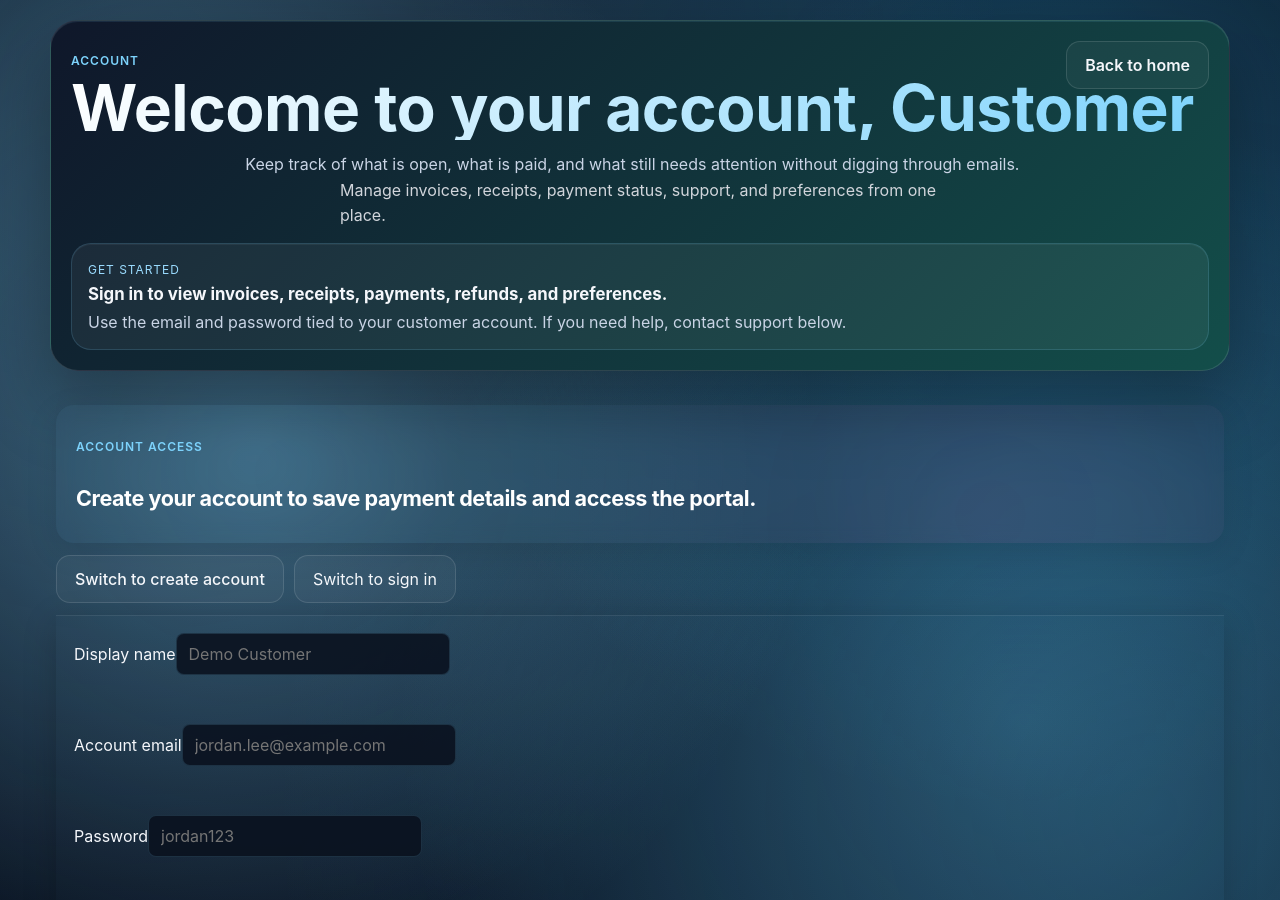
Test: Feature flows › opens the create-account flow from the public homepage and registers a new user
This screenshot has width=1280, height=900.
Expected: the heading "Create your account to save payment details and access the portal" is shown, x1=76 y1=485 x2=756 y2=511
In the field labelled "Display name": (313, 654) x1=176 y1=633 x2=450 y2=675, type "New Customer"
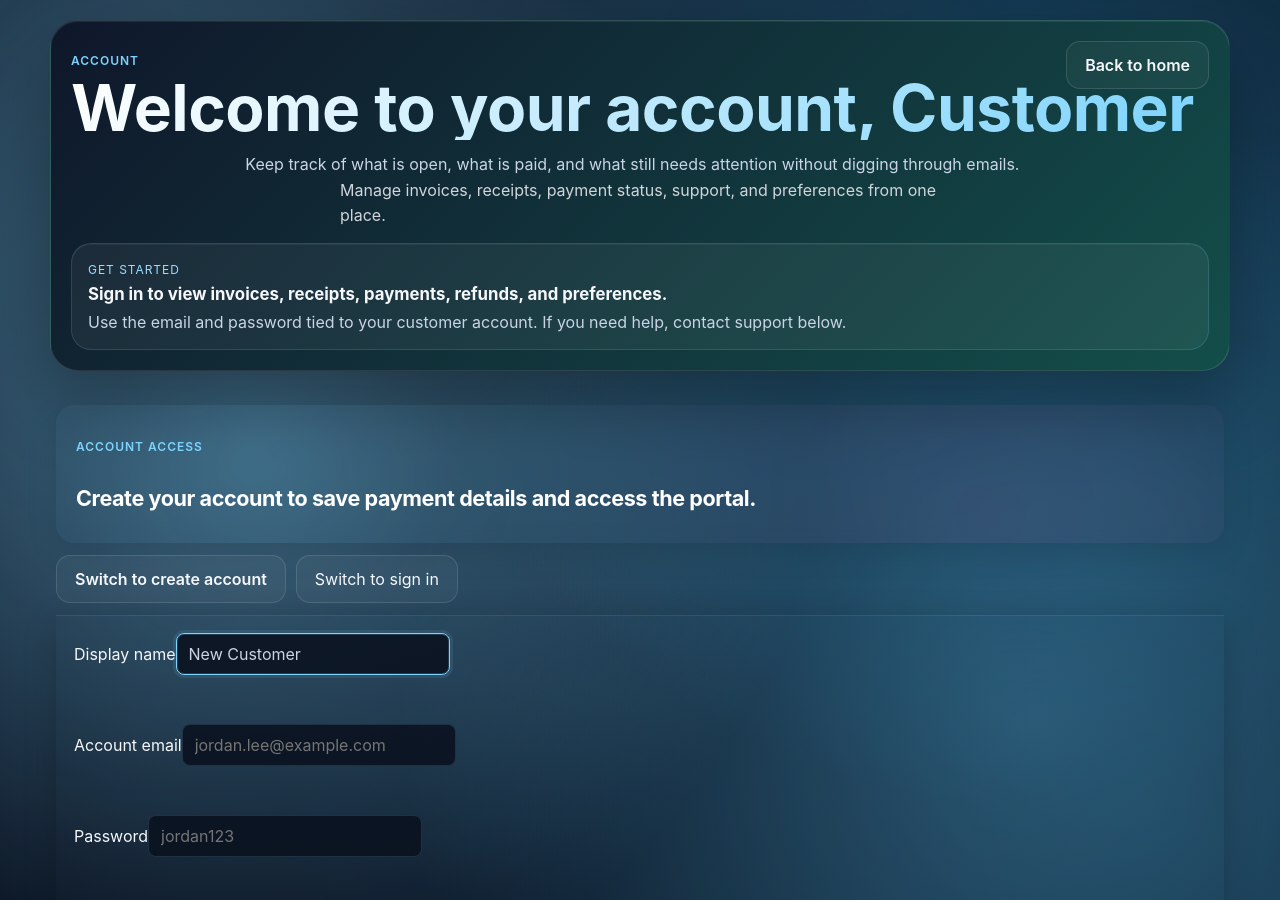
In the field labelled "Account email": (319, 745) x1=182 y1=724 x2=456 y2=766, type "new.customer@example.com"
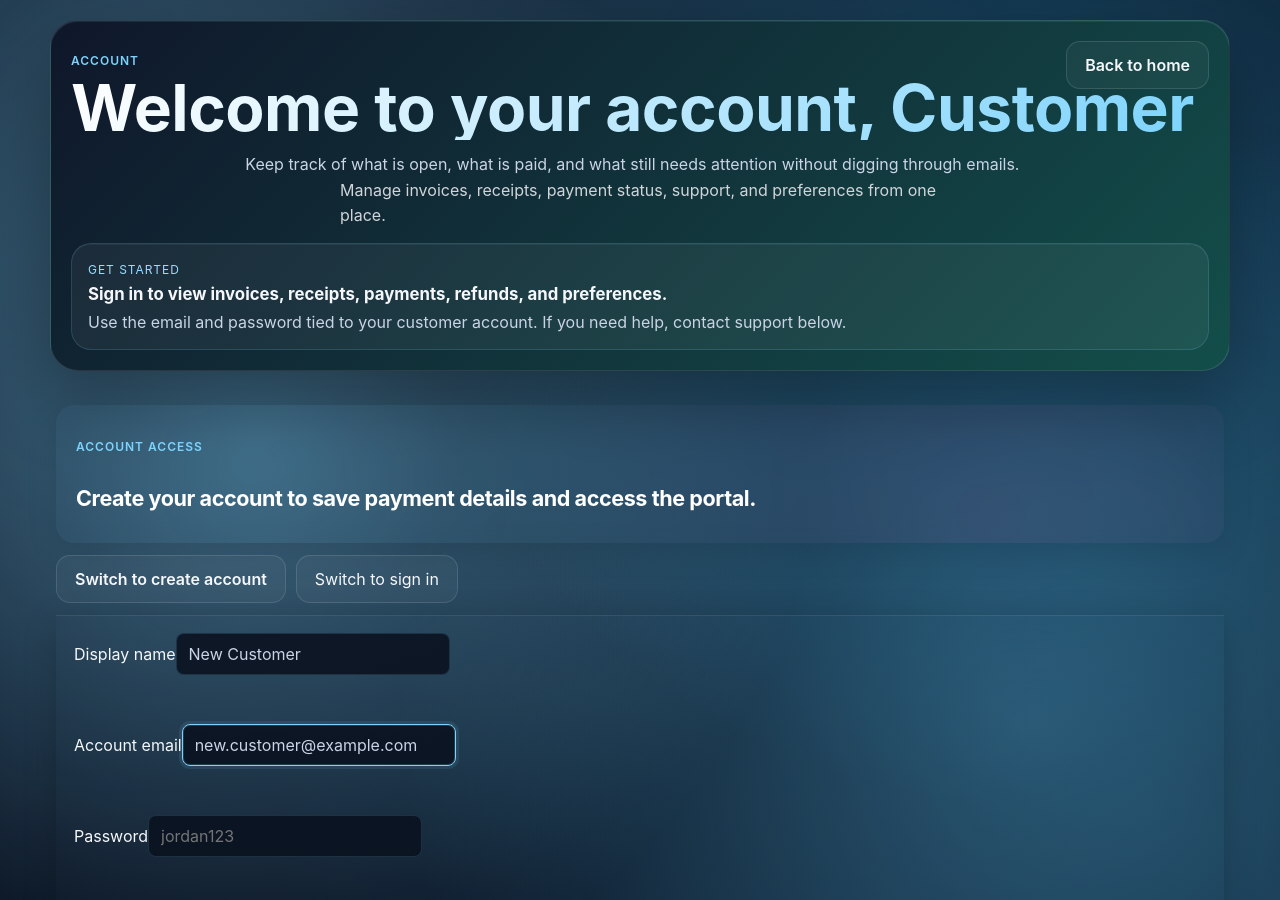
In the password field labelled "Password": (285, 836) x1=148 y1=815 x2=422 y2=857, type "newcustomer123"
(page scrolled)
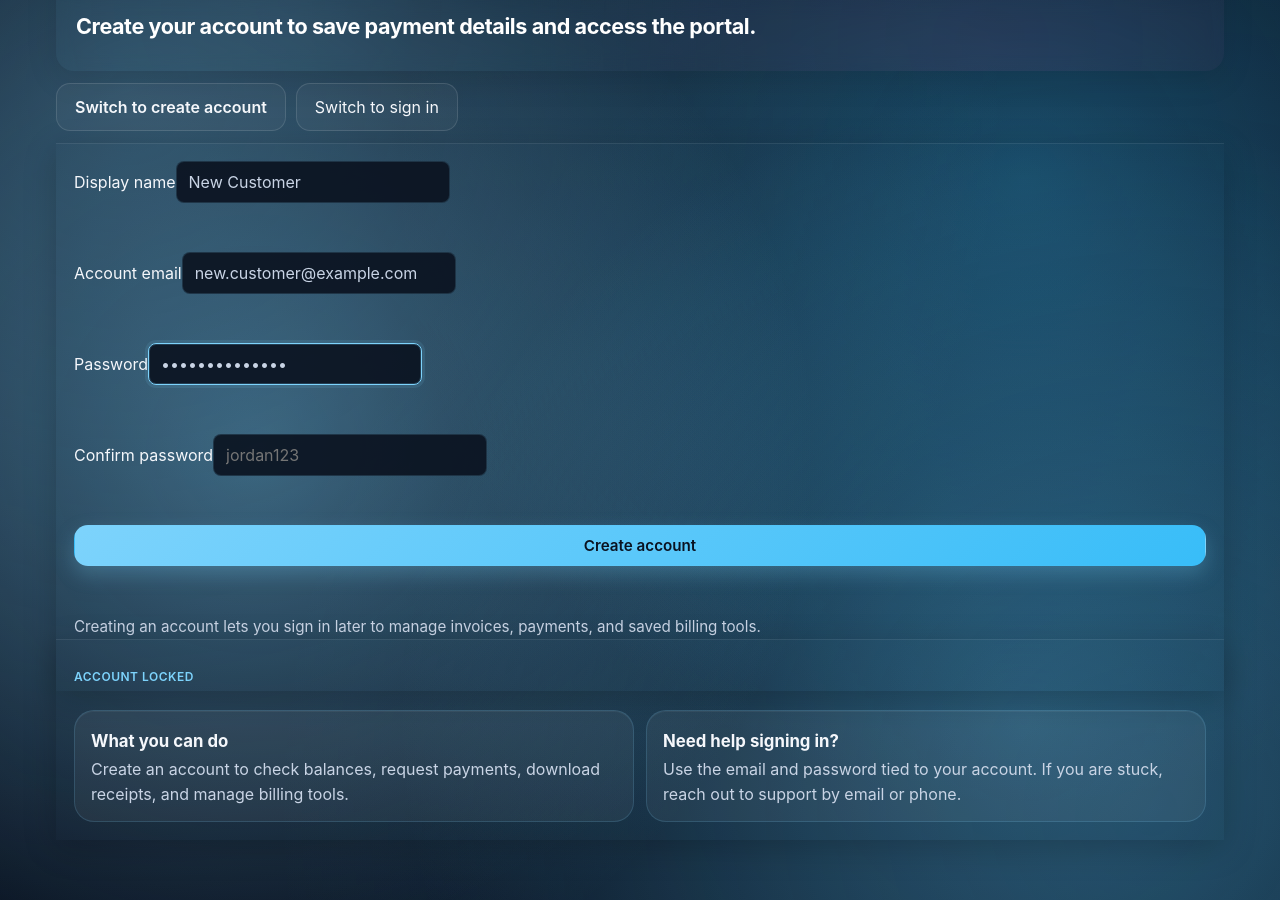
In the password field labelled "Confirm password": (350, 455) x1=213 y1=434 x2=487 y2=476, type "newcustomer123"
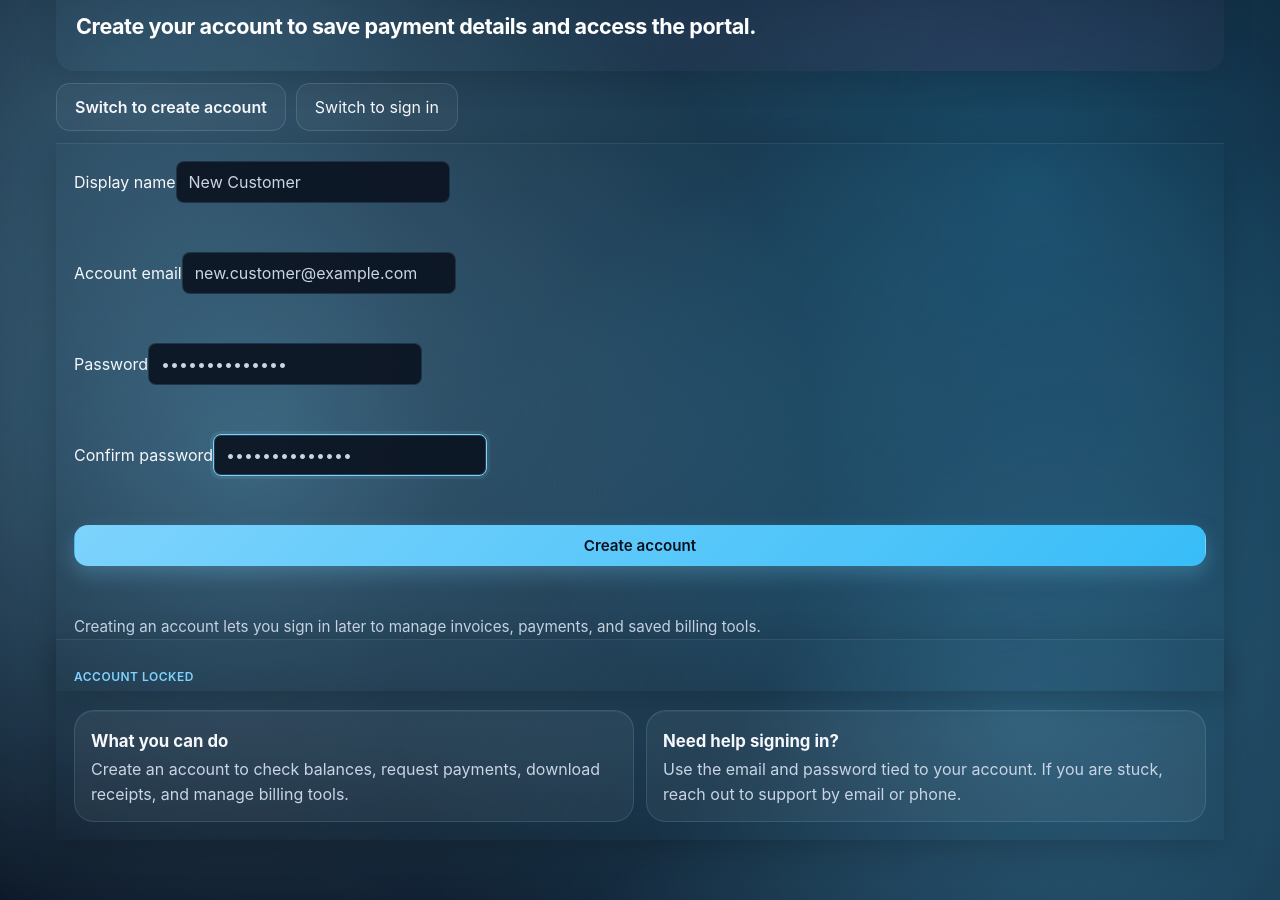
Click the button "Create account": (640, 545) x1=74 y1=525 x2=1206 y2=566
(page scrolled)
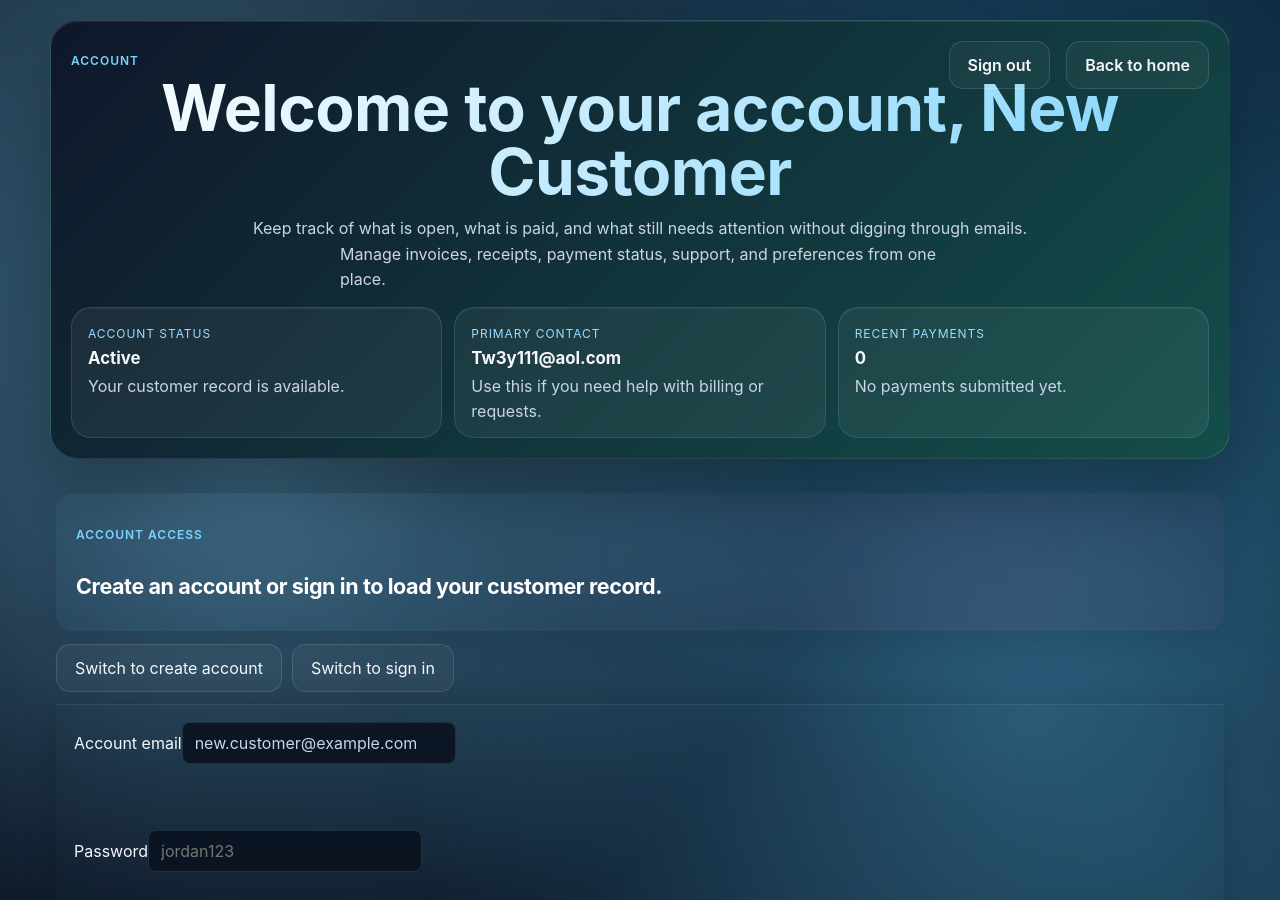
Result: the heading "Welcome to your account, New Customer" is shown at x1=71 y1=76 x2=1209 y2=204
